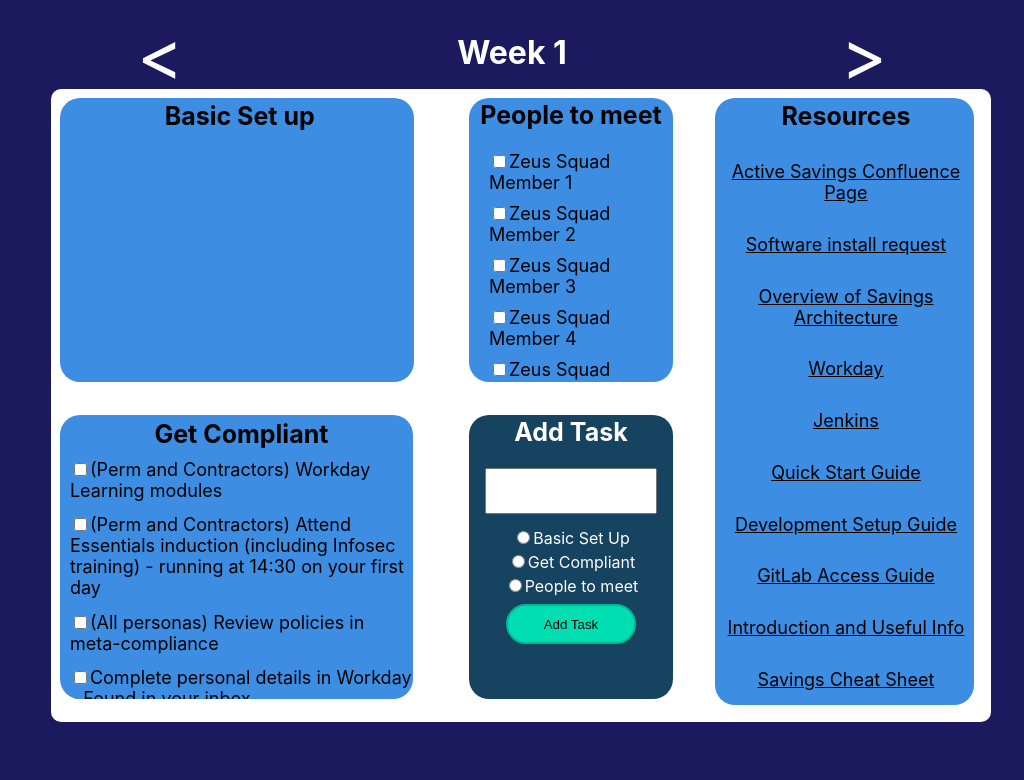
Test case: Arrows work › forward arrow works
The image size is (1024, 780).
Step 1. Click the text ">" → (864,51), box [841,12,887,89]
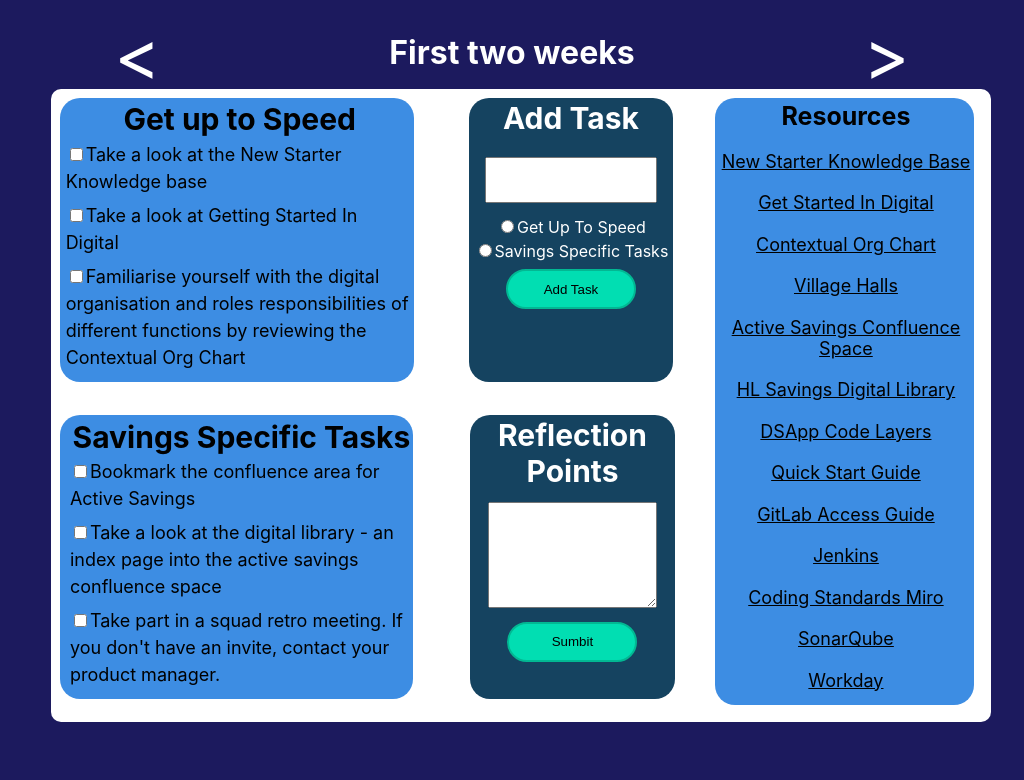
Check: the heading "First two weeks" is shown, box [389,33,635,67]
